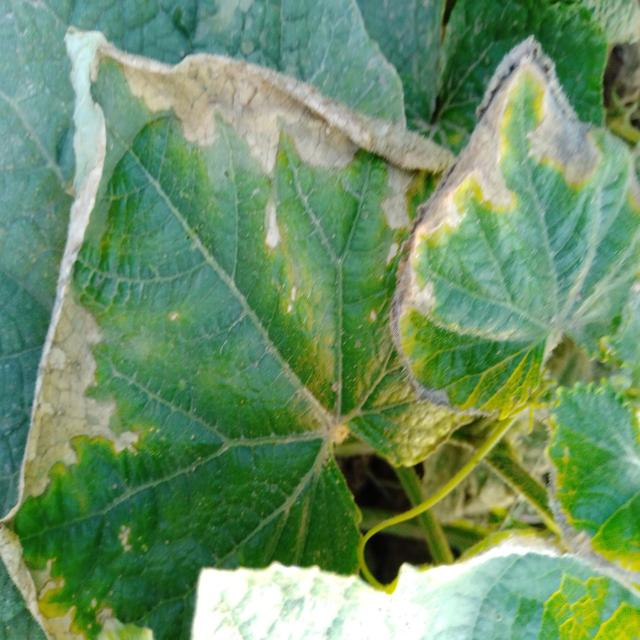cucumber_gummy: (0, 5, 508, 640), (387, 19, 640, 418), (527, 367, 640, 563)
